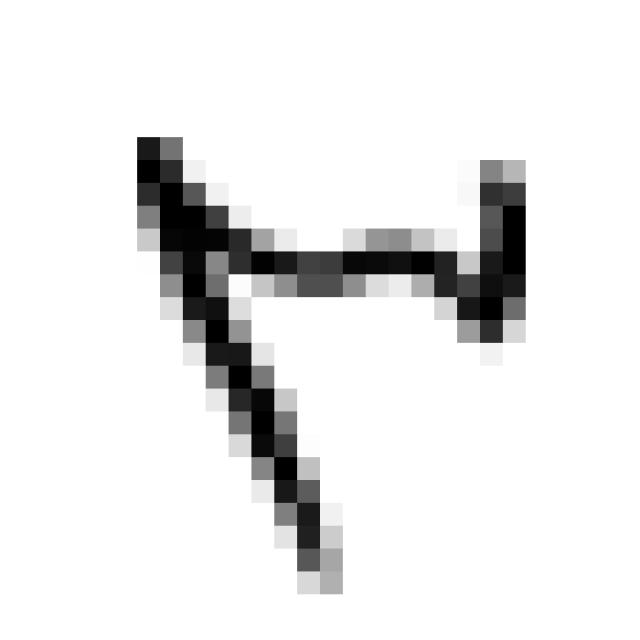3 -three-: (114, 112, 552, 606)
